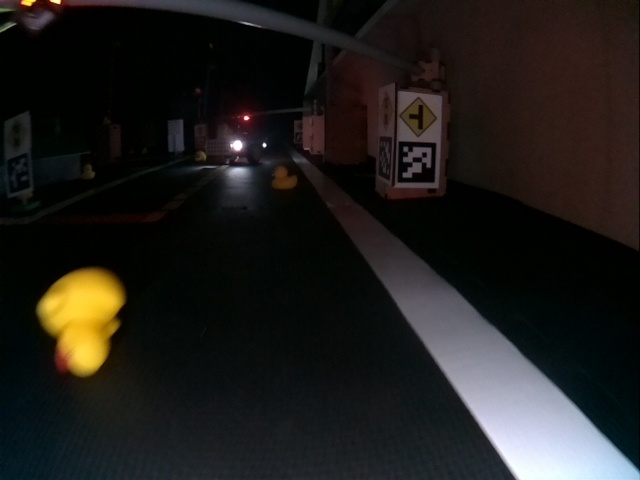Duckie: (35, 269, 126, 376), (271, 166, 297, 188), (82, 164, 95, 179), (195, 151, 206, 161)
Duckiebot: (205, 134, 267, 163)
Intersection sign: (400, 97, 437, 137)
QR code: (398, 142, 436, 184), (8, 153, 30, 192), (378, 136, 392, 181)
Signal sign: (6, 119, 28, 152), (379, 92, 395, 133)
Traffic light: (16, 0, 65, 30)
